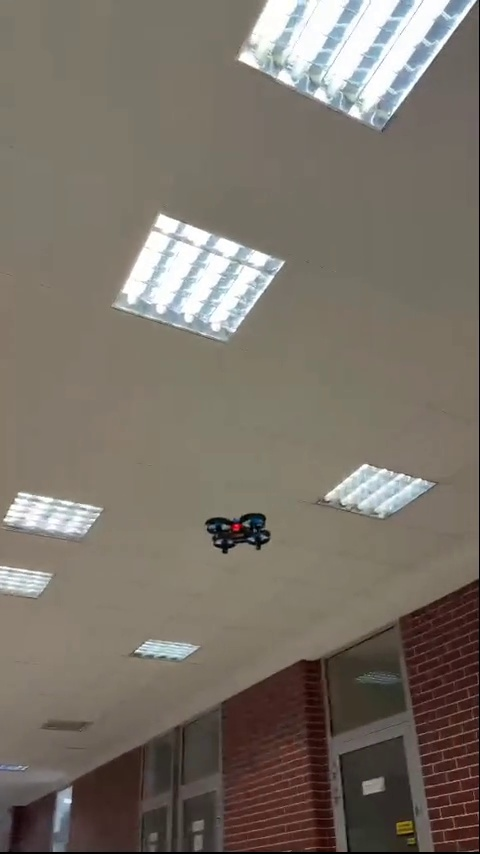drone: (206, 512, 271, 553)
